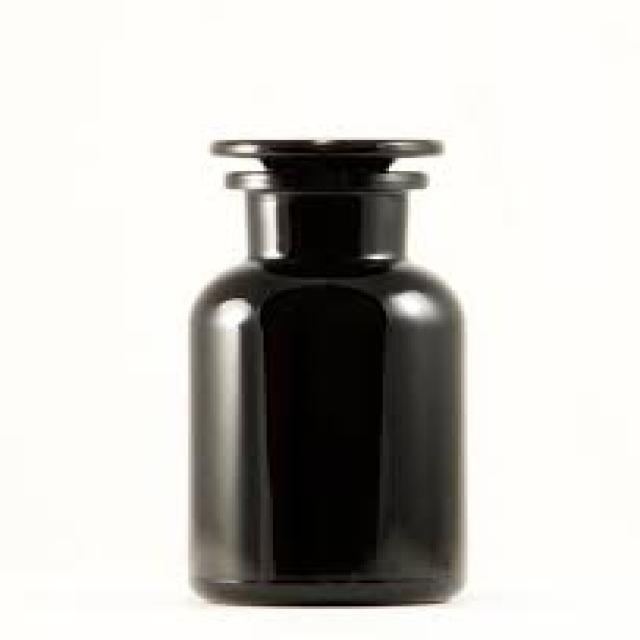glass: (192, 137, 465, 604)
